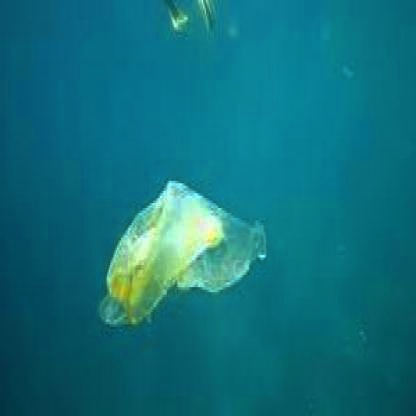pbag: (98, 178, 268, 337)
